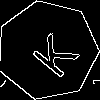K: (23, 25, 81, 80)
